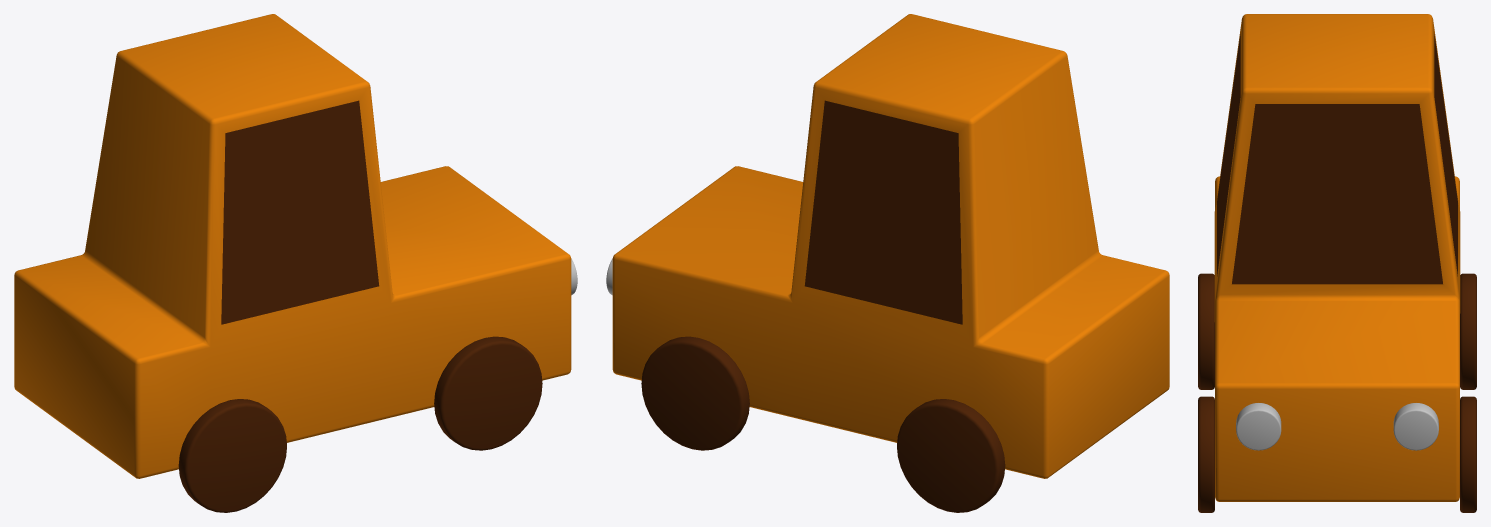
File: car_1.glb
3 renders of one model, left to right at view 1: azimuth 30°, elevation 25°; view 2: azimuth 150°, elevation 25°; view 3: azimuth 270°, elevation 25°, orthographic.
Parts seen in each view (by area): view 1: Cube, Cylinder.001, Cylinder; view 2: Cube, Cylinder.001, Cylinder; view 3: Cube, Cylinder, Cylinder.001, Cylinder.002.
Part boxes in pixels (bbox=[...]): Cube: bbox=[14, 14, 571, 478]; Cylinder.001: bbox=[434, 336, 542, 450]; Cylinder: bbox=[178, 399, 286, 512]; Cube: bbox=[612, 14, 1169, 478]; Cylinder.001: bbox=[641, 336, 749, 450]; Cylinder: bbox=[897, 399, 1005, 512]; Cube: bbox=[1214, 14, 1460, 501]; Cylinder: bbox=[1198, 273, 1476, 389]; Cylinder.001: bbox=[1198, 396, 1476, 512]; Cylinder.002: bbox=[1236, 403, 1438, 450].
Size of the model in its own units: 3.23 by 2.57 by 1.75.
